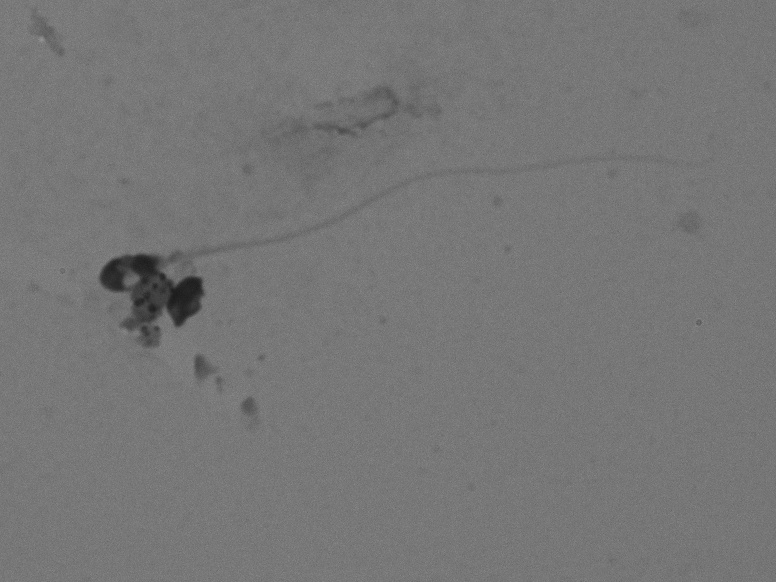Abnormal: (75, 134, 724, 303)
